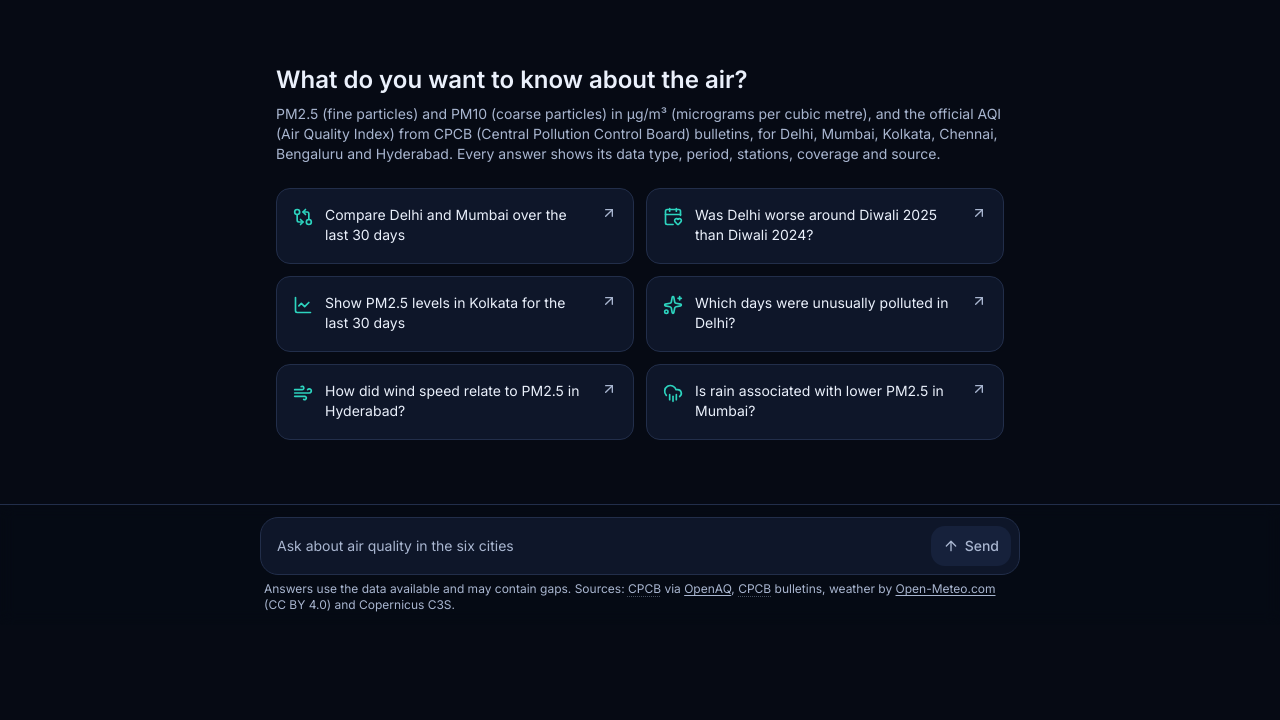
Test case: Ask screen › rate limited: Retry waits for the Retry-After countdown
The width and height of the screenshot is (1280, 720).
Type "q" into the text box named "Your question". click: (596, 546)
box: [269,526,923,566]
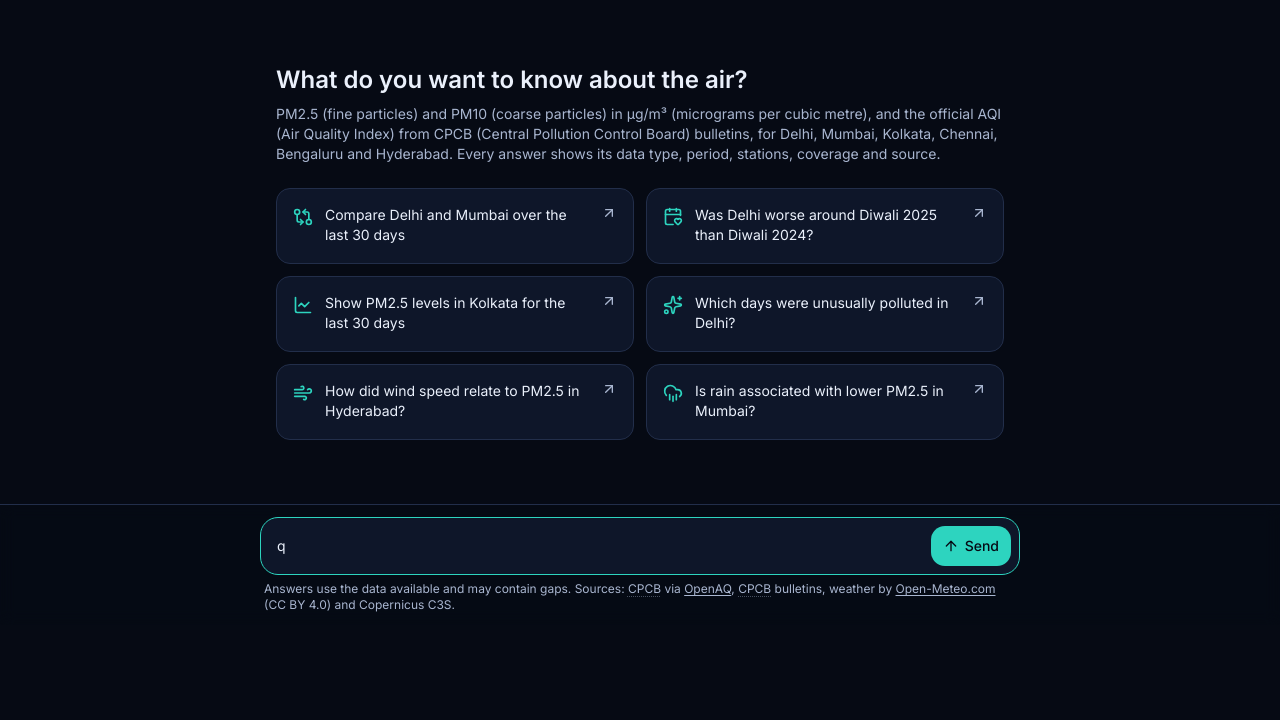
Press Enter
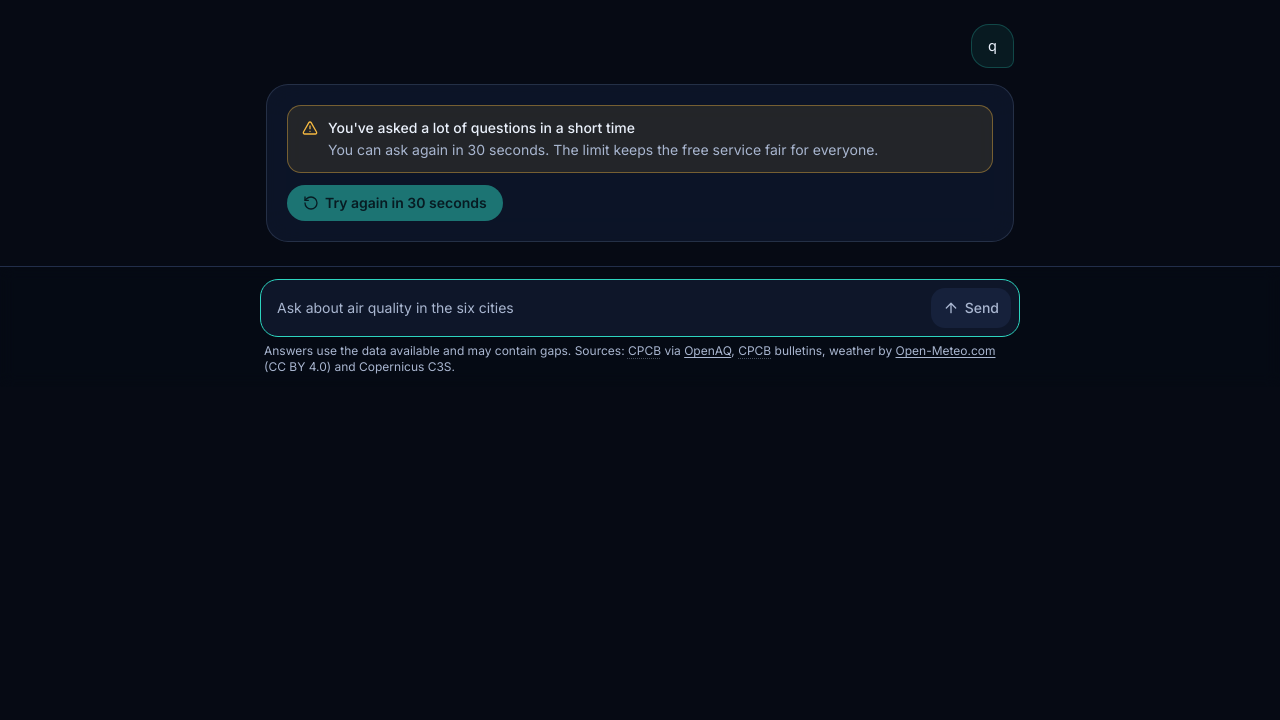
Expected: the button "Try again in 30 seconds" is disabled, [287,185,503,221]
Expected: the text "You've asked a lot of questions in a short time" is shown, [328,119,635,136]
